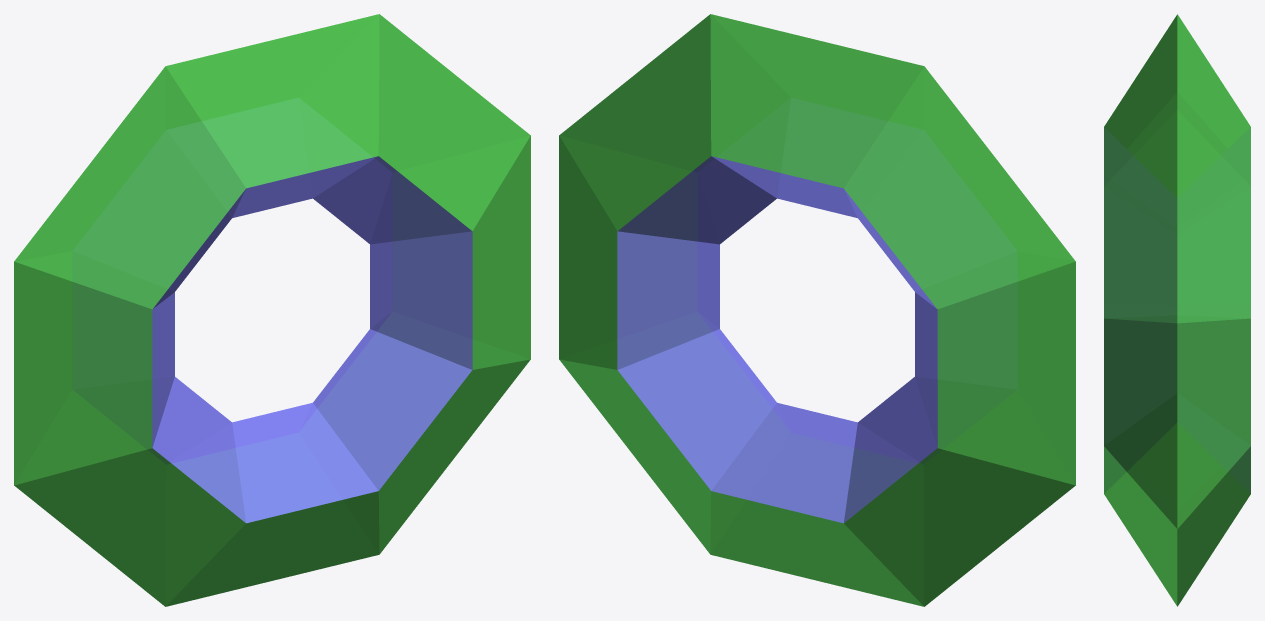
File: Regular8TetragonalToroid.obj
3 views of the same model, side by side, from view 1: azimuth 30°, elevation 25°; view 2: azimuth 150°, elevation 25°; view 3: azimuth 270°, elevation 25° (orthographic). The views are drawn at different scales.
Bounding box in the file's own units: 2.61 × 2.61 × 0.7.
